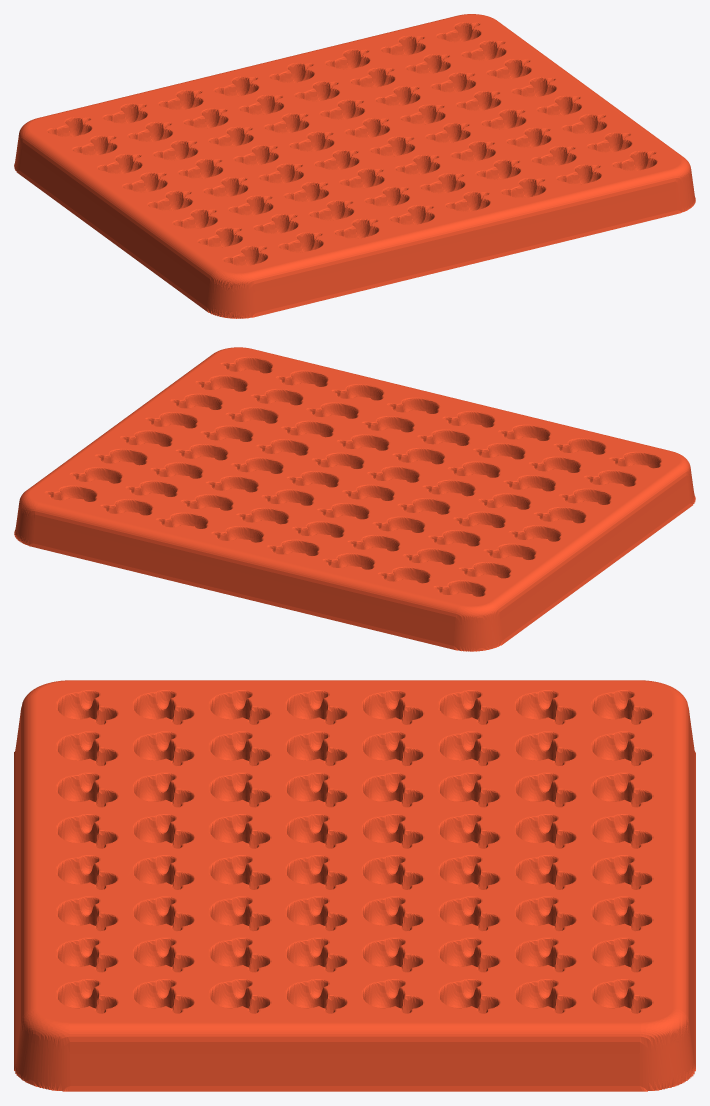
The model's file is mold.glb.
3 renders of one model, top to bottom at view 1: azimuth 30°, elevation 25°; view 2: azimuth 150°, elevation 25°; view 3: azimuth 270°, elevation 25°, orthographic. The views are drawn at different scales.
Parts seen in each view (by area): view 1: geometry_0; view 2: geometry_0; view 3: geometry_0.
Boxes of the visible parts, x1=… form: geometry_0: x1=14, y1=14, x2=695, y2=318; geometry_0: x1=14, y1=347, x2=695, y2=651; geometry_0: x1=14, y1=680, x2=695, y2=1091.
Size of the model in its own units: 0.1355 by 0.0105 by 0.1085.
